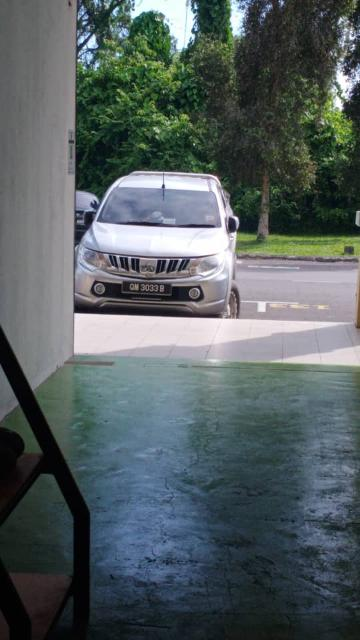License_Plate: (124, 282, 173, 297)
car: (71, 169, 247, 324)
